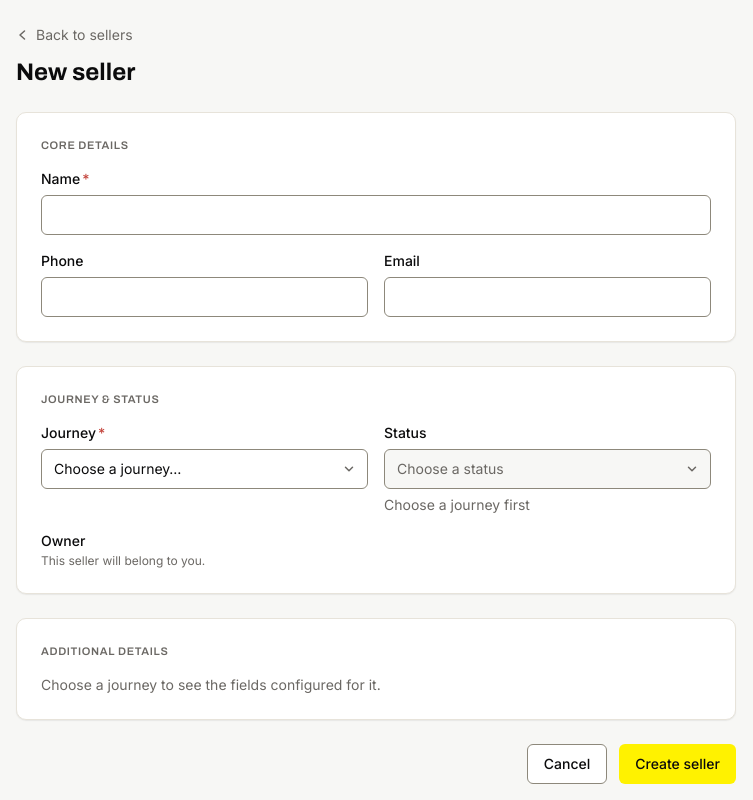
Test: lead form assignment types › refuses to create when the journey is ambiguous and no role is chosen
This screenshot has width=753, height=800.
Type "Synthetic Co" into the field labelled "Name*".
click(376, 215); type("Synthetic Co")  # box top-left (41, 195), bottom-right (711, 235)
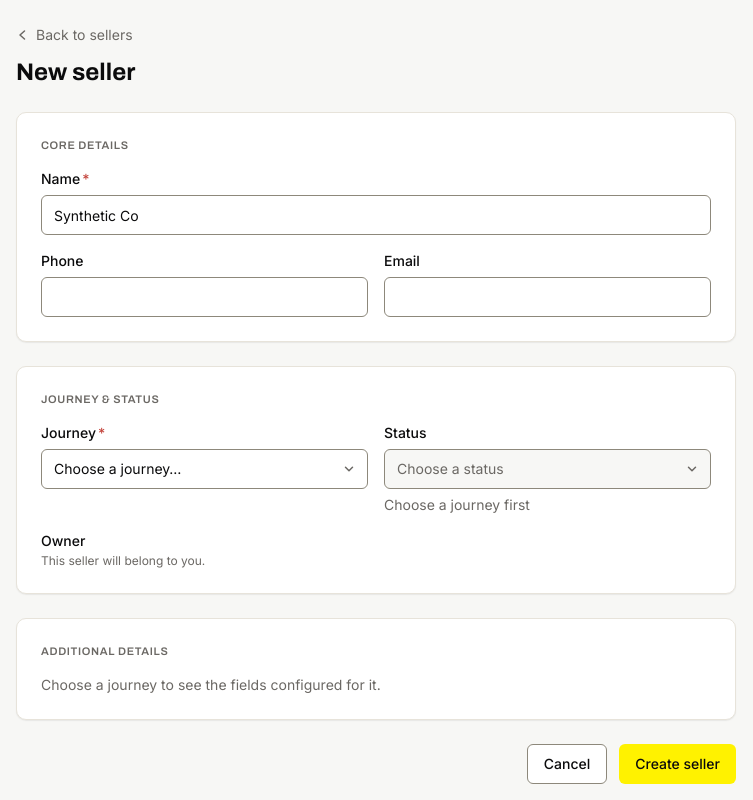
Select "Journey Alpha" in the dropdown labelled "Journey*" at point(204, 469), box top-left (41, 449), bottom-right (368, 489)
(page scrolled)
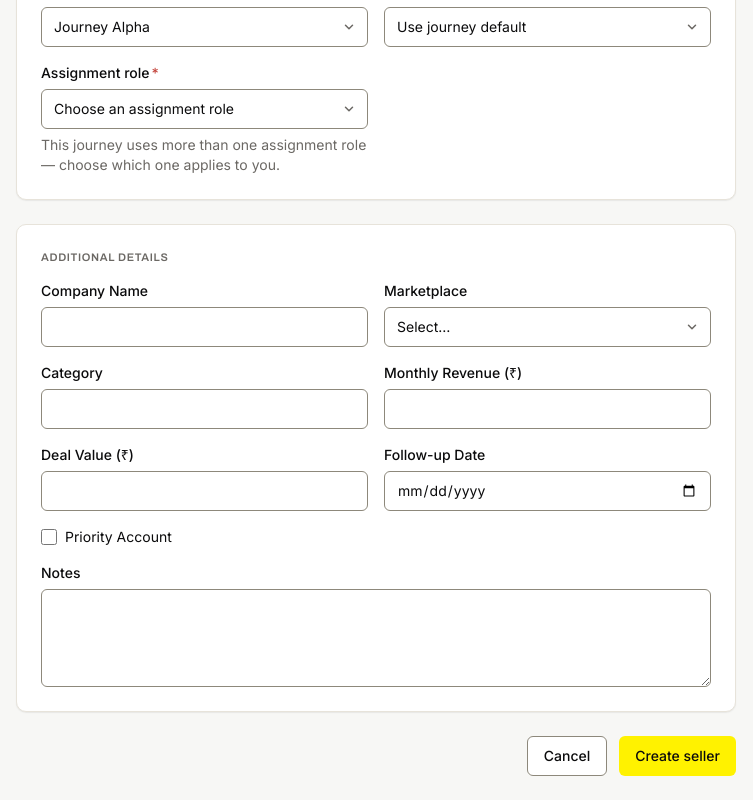
Click the button "Create seller".
click(678, 756)  # box top-left (619, 736), bottom-right (736, 776)
(page scrolled)
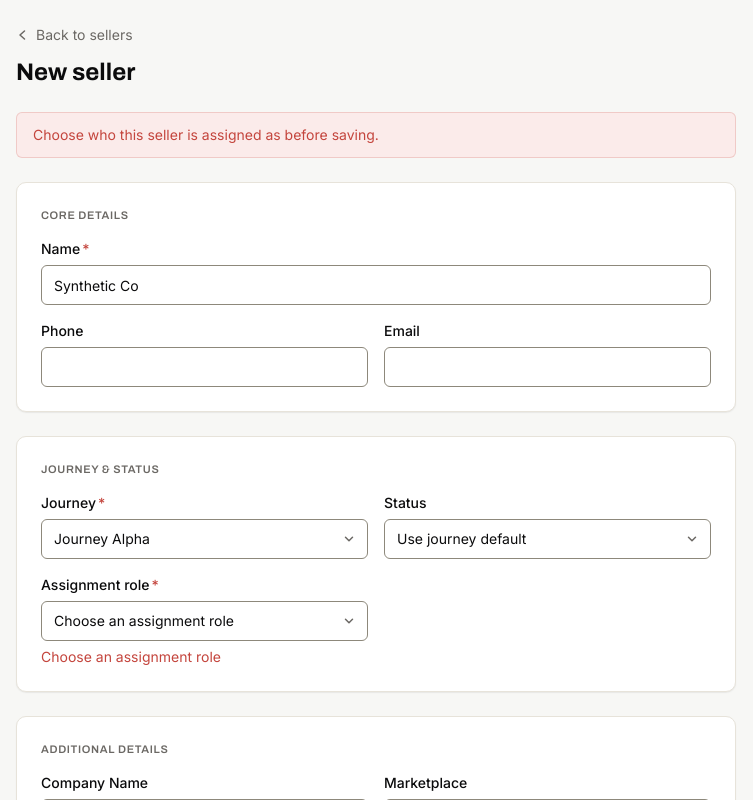
Result: the message shows "assigned as" at top-left (33, 126), bottom-right (379, 143)
